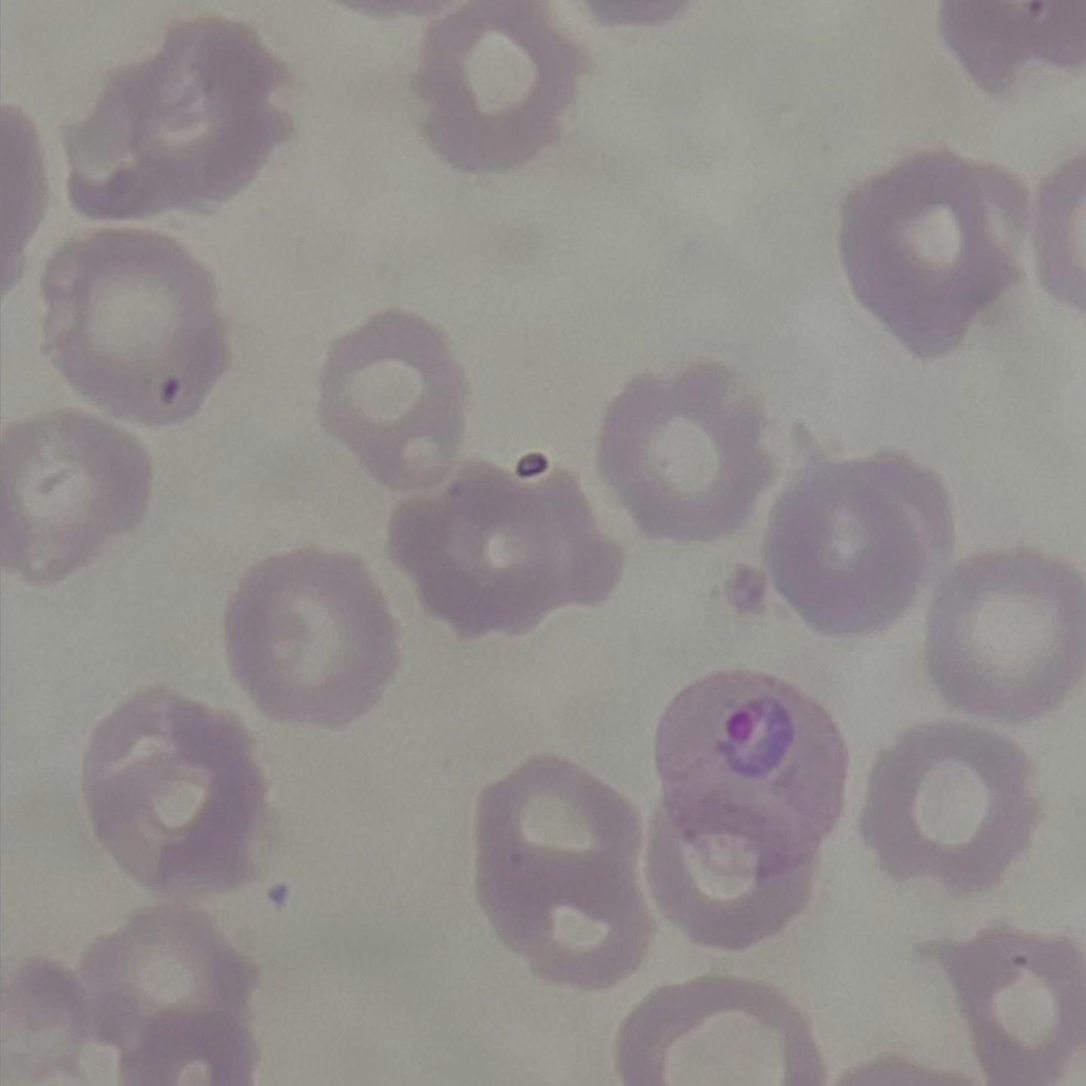Infected: (659, 667, 852, 885)
Uninfected: (58, 16, 293, 221), (395, 449, 624, 635), (478, 758, 662, 986), (835, 147, 1025, 362), (73, 693, 272, 895), (40, 230, 228, 431), (219, 547, 413, 733), (858, 715, 1043, 892), (765, 449, 941, 635), (594, 358, 773, 540), (80, 909, 253, 1086), (644, 783, 815, 956), (415, 0, 579, 177), (926, 542, 1086, 723), (319, 308, 475, 489), (3, 408, 153, 592), (933, 919, 1086, 1086), (614, 977, 817, 1086)
